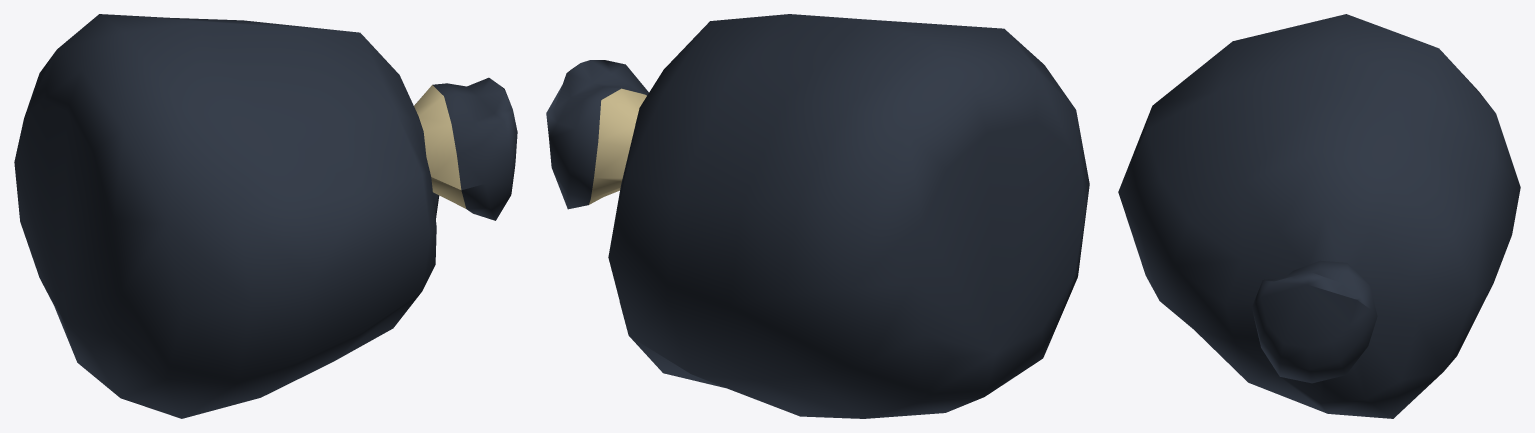
The model's file is Final_garbage_bag.fbx.
The picture shows the model from 3 angles, left to right: view 1: azimuth 30°, elevation 25°; view 2: azimuth 150°, elevation 25°; view 3: azimuth 270°, elevation 25°; orthographic projection. The views are drawn at different scales.
Visible parts, largest first — view 1: garbage_bag; view 2: garbage_bag; view 3: garbage_bag.
Boxes of the visible parts, x1=… form: garbage_bag: x1=14, y1=14, x2=517, y2=418; garbage_bag: x1=546, y1=14, x2=1089, y2=418; garbage_bag: x1=1118, y1=14, x2=1520, y2=418.
Bounding box in the file's own units: 56.57 × 43.15 × 50.95.
